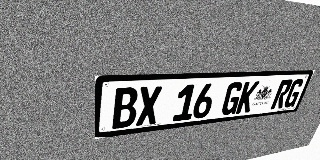1: (173, 84, 198, 122)
6: (191, 83, 217, 119)
B: (112, 87, 139, 129)
G: (220, 82, 245, 116), (282, 79, 305, 108)
K: (235, 81, 260, 114)
R: (270, 79, 294, 109)
X: (136, 86, 162, 126)
